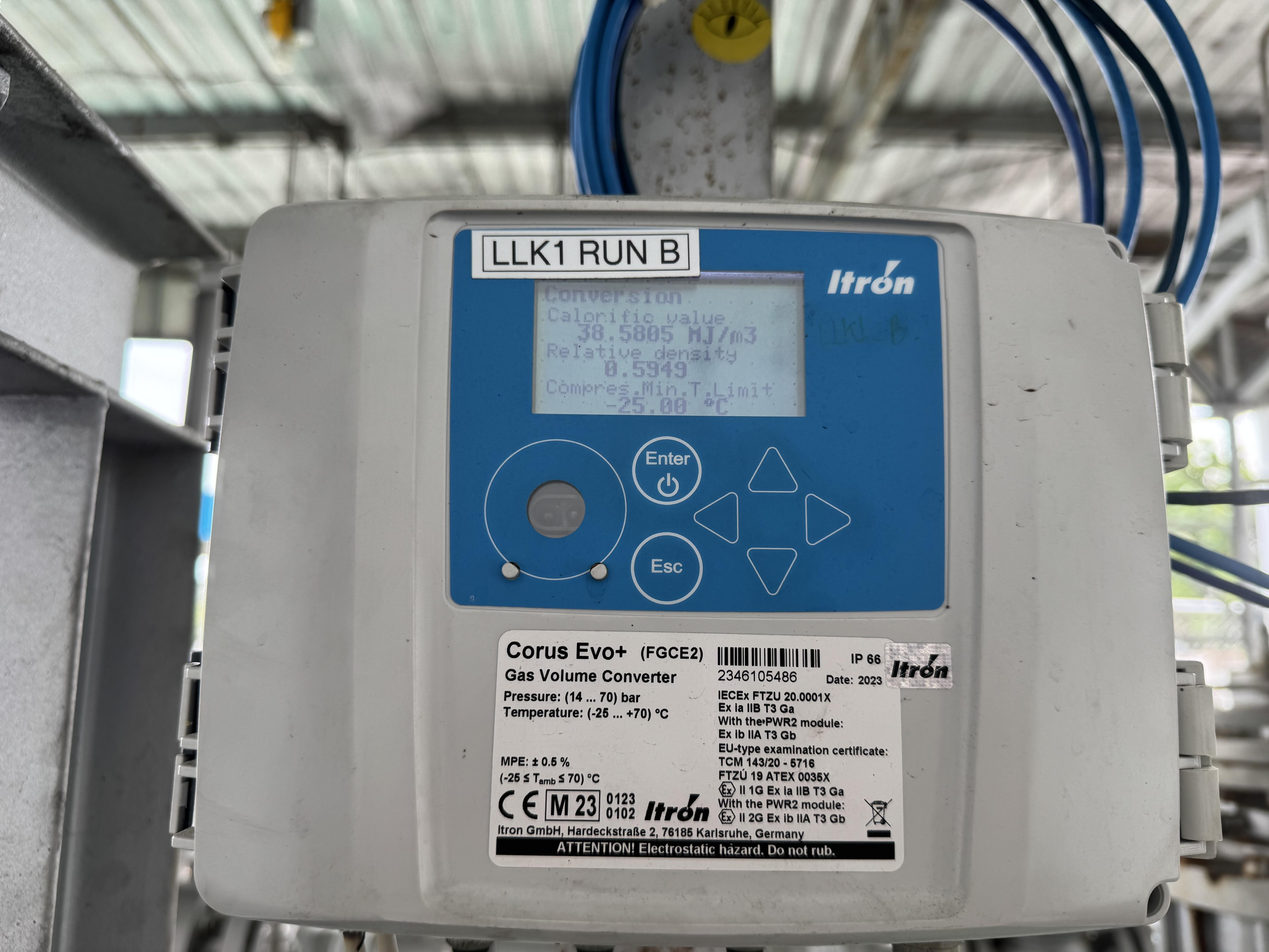digital_screen: (532, 269, 808, 416)
